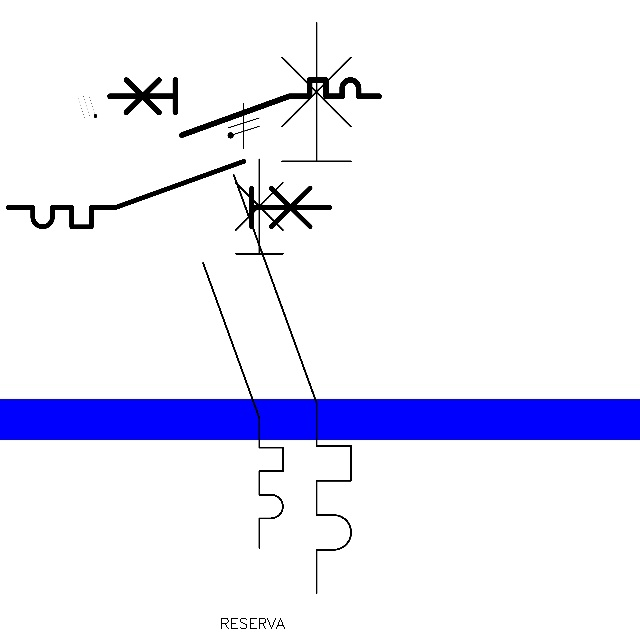interruptor_termomagnetico: (219, 8, 366, 608), (193, 149, 293, 557), (0, 153, 338, 235), (103, 73, 386, 142)
